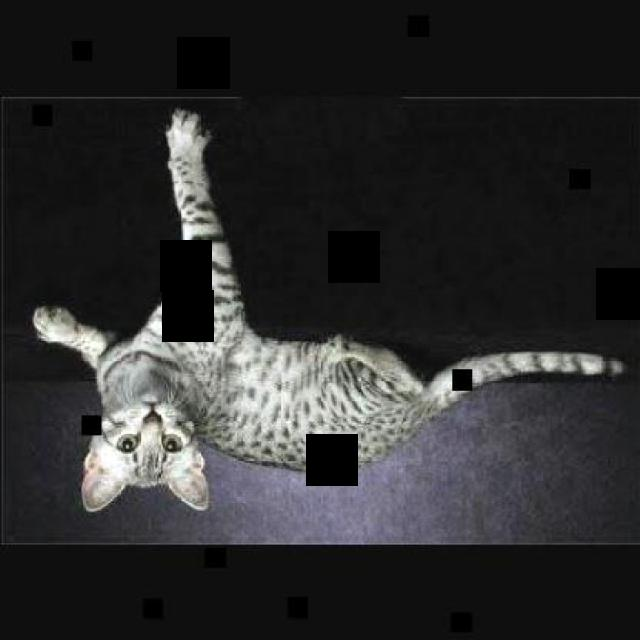unauthorized: (30, 106, 628, 514)
